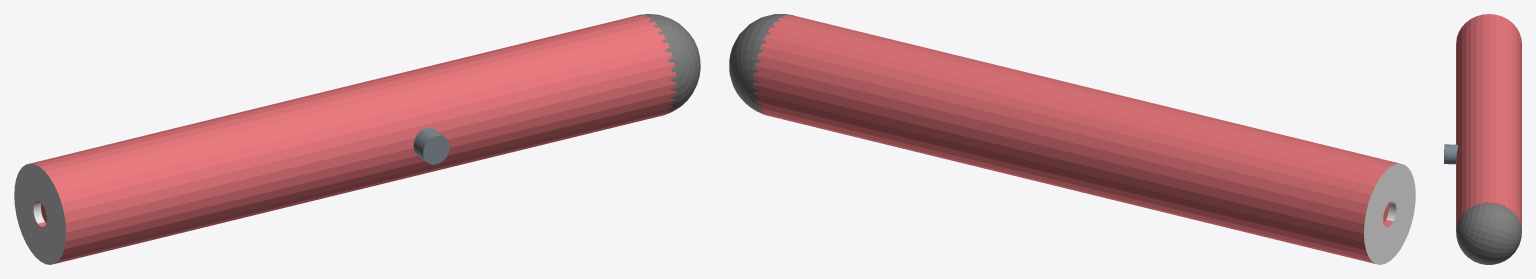
The model's file is LaserGun.fbx.
The picture shows the model from 3 angles, left to right: view 1: azimuth 30°, elevation 25°; view 2: azimuth 150°, elevation 25°; view 3: azimuth 270°, elevation 25°; orthographic projection. The views are drawn at different scales.
Parts seen in each view (by area): view 1: Cylinder, Sphere, Cylinder.001; view 2: Cylinder, Sphere; view 3: Cylinder, Sphere, Cylinder.001.
Boxes of the visible parts, x1=… form: Cylinder: x1=14, y1=14, x2=676, y2=264; Sphere: x1=636, y1=14, x2=700, y2=116; Cylinder.001: x1=413, y1=128, x2=449, y2=164; Cylinder: x1=753, y1=14, x2=1415, y2=264; Sphere: x1=729, y1=14, x2=793, y2=116; Cylinder: x1=1456, y1=14, x2=1521, y2=233; Sphere: x1=1456, y1=202, x2=1521, y2=264; Cylinder.001: x1=1444, y1=144, x2=1458, y2=164.
Size of the model in its own units: 1455 by 200 by 237.
